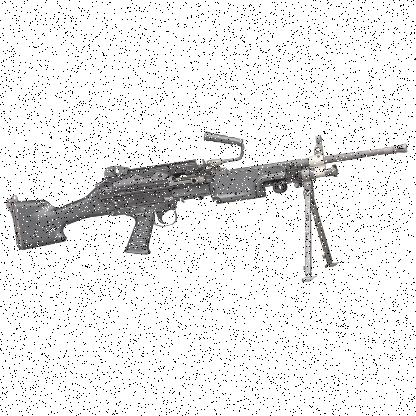gun: (7, 131, 405, 282)
